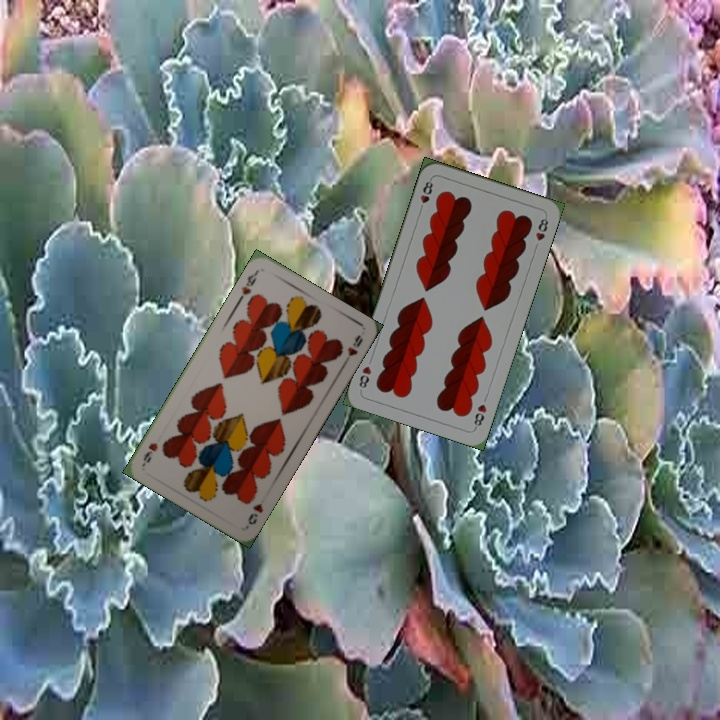H8: (415, 175, 436, 214), (470, 400, 489, 431)
H9: (237, 267, 261, 297), (243, 499, 266, 528)
